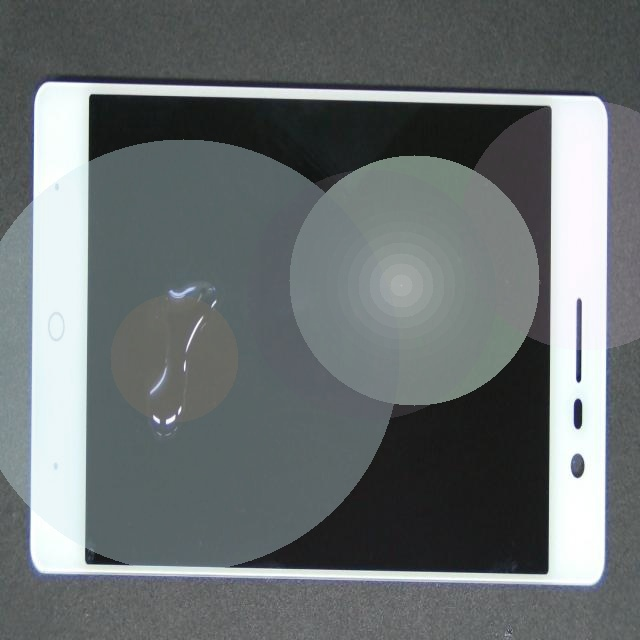oil: (66, 216, 243, 640)
